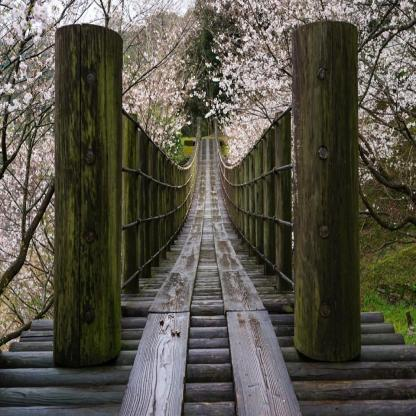Someiyoshino: (1, 3, 198, 339), (228, 2, 415, 187)
